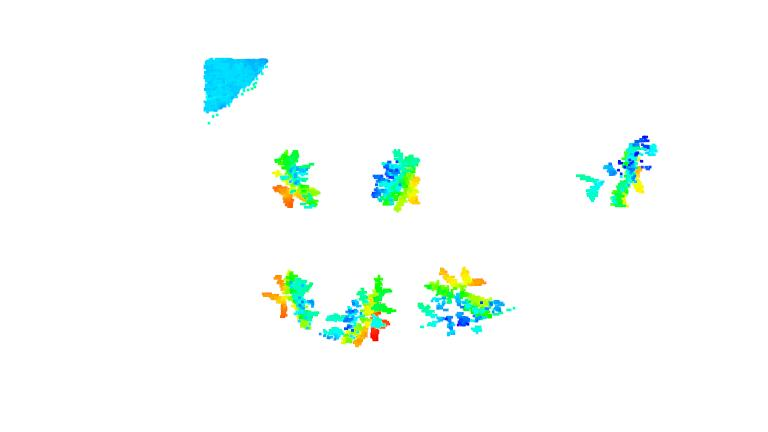chickpea: (417, 266, 506, 333), (576, 135, 658, 207), (319, 275, 397, 347), (368, 147, 424, 210), (270, 147, 322, 213), (261, 271, 317, 331)
